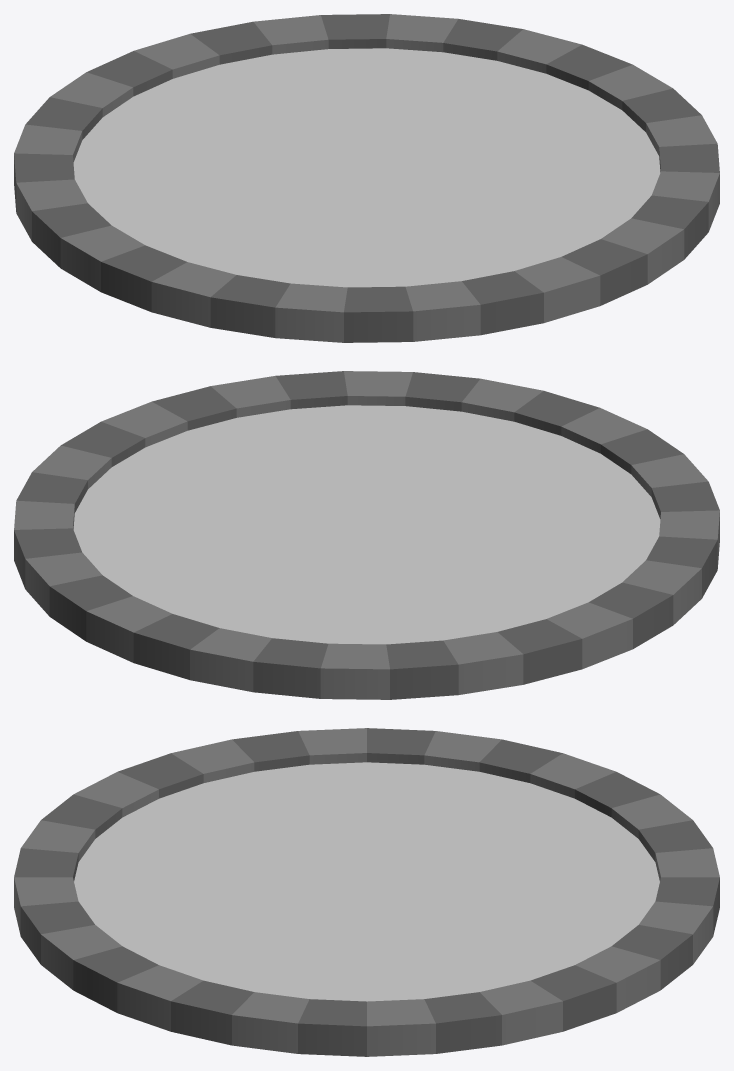
File: PalmTreeRoundBasis.fbx
The picture shows the model from 3 angles, top to bottom: view 1: azimuth 30°, elevation 25°; view 2: azimuth 150°, elevation 25°; view 3: azimuth 270°, elevation 25°; orthographic projection.
Parts seen in each view (by area): view 1: OCPalmTree_RoundBasis; view 2: OCPalmTree_RoundBasis; view 3: OCPalmTree_RoundBasis.
Part boxes in pixels (x1,y1,x2,y2): OCPalmTree_RoundBasis: [14, 14, 719, 342]; OCPalmTree_RoundBasis: [14, 371, 719, 699]; OCPalmTree_RoundBasis: [14, 728, 719, 1056].
Size of what is drawn, in the model's own units: 23.16 by 23.16 by 1.1.
